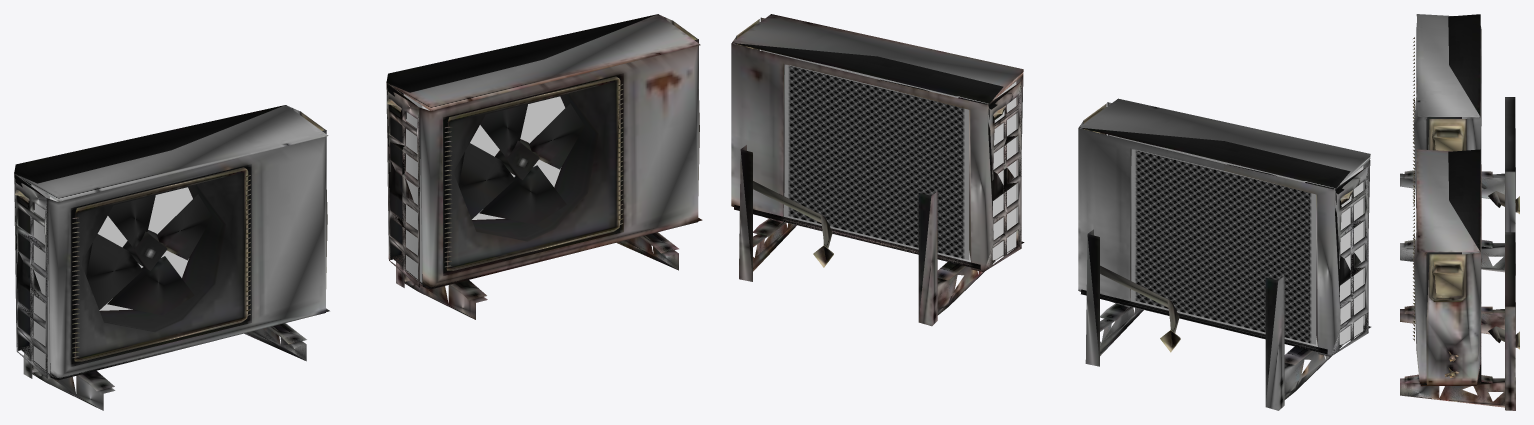
The model's file is exterior_aircon_unit.glb.
3 views of the same model, side by side, from view 1: azimuth 30°, elevation 25°; view 2: azimuth 150°, elevation 25°; view 3: azimuth 270°, elevation 25° (orthographic). The views are drawn at different scales.
Visible parts, largest first — view 1: exterior_aircon_unit, exterior_aircon_unit_rusted; view 2: exterior_aircon_unit_rusted, exterior_aircon_unit; view 3: exterior_aircon_unit_rusted, exterior_aircon_unit.
Boxes of the visible parts, left/top/right/bottom form: exterior_aircon_unit: left=14, top=105, right=329, bottom=410; exterior_aircon_unit_rusted: left=386, top=14, right=702, bottom=319; exterior_aircon_unit_rusted: left=731, top=14, right=1024, bottom=326; exterior_aircon_unit: left=1078, top=98, right=1370, bottom=410; exterior_aircon_unit_rusted: left=1400, top=149, right=1519, bottom=410; exterior_aircon_unit: left=1400, top=14, right=1519, bottom=275.
Size of the model in its own units: 1.8 by 0.6028 by 0.3742.
Materials: 4 (4 with a texture image).
